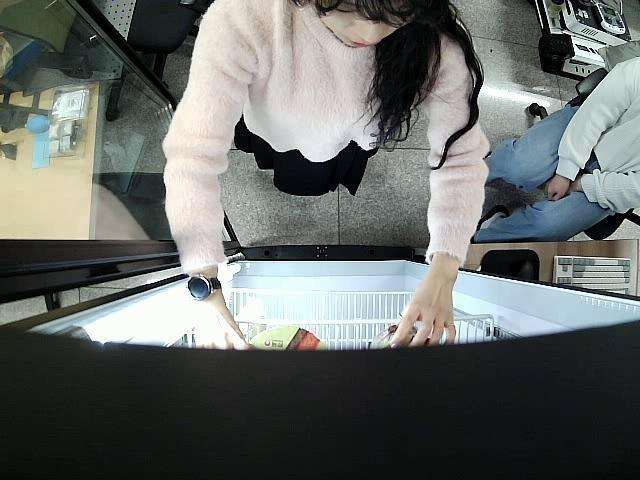03_chapagetti_L: (244, 324, 330, 356), (371, 324, 430, 348)
